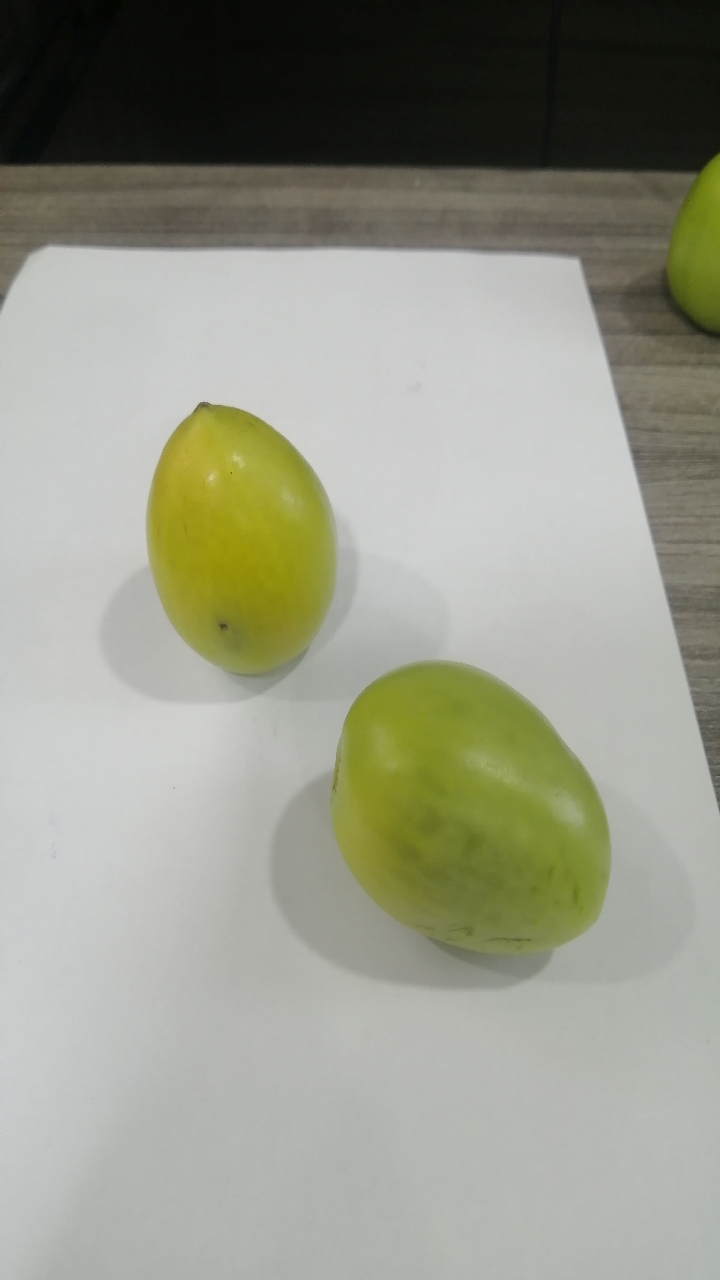tomateVerde: (323, 652, 635, 980), (123, 389, 340, 688)
